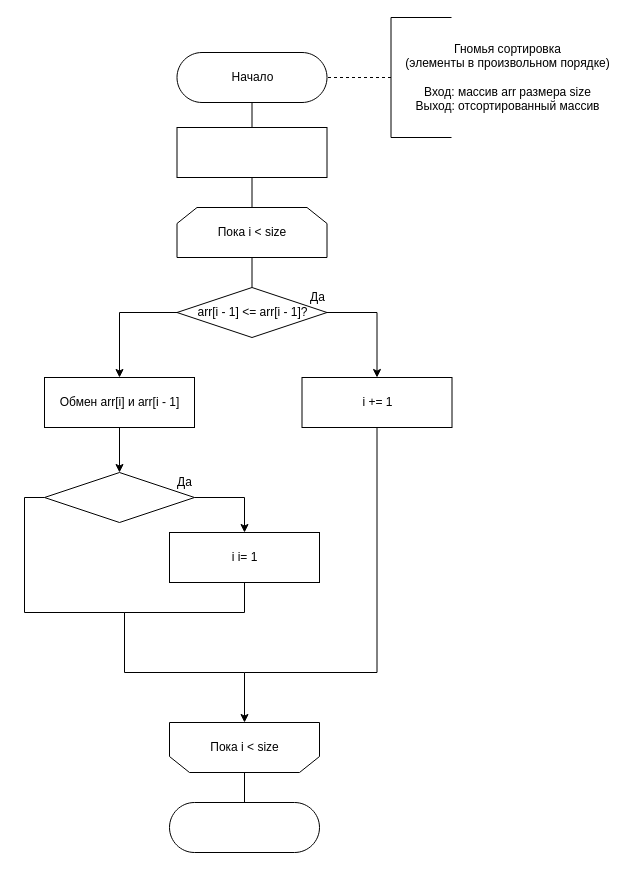
Image size: 634x870. Some labels were removed from this diagram. The box of each missing label's shape, as (x1, y1, x2, y2) in pixels:
i = 1: (176, 126, 327, 178)
i > 1: (44, 472, 194, 522)
Конец: (168, 802, 320, 852)
